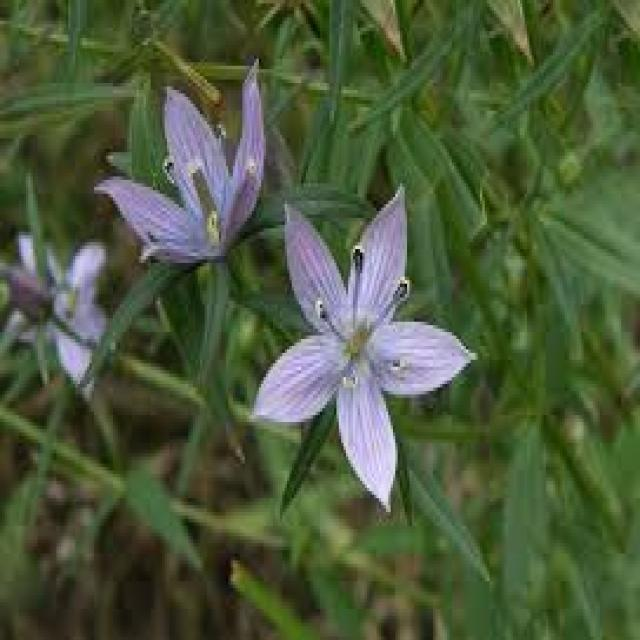Chirata: (26, 62, 640, 640), (227, 164, 562, 557), (20, 216, 301, 509), (86, 83, 287, 276)
